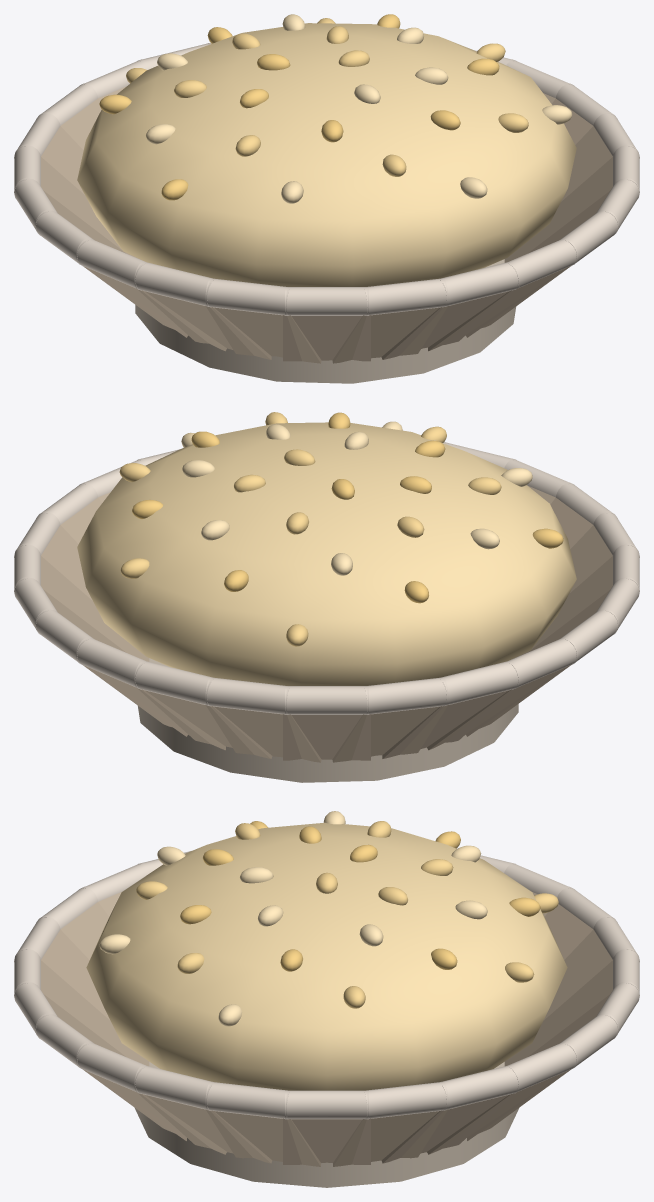
File: CMU3DFoodRicePuddingCloud.glb
3 views of the same model, one above another, from view 1: azimuth 30°, elevation 25°; view 2: azimuth 150°, elevation 25°; view 3: azimuth 270°, elevation 25° (orthographic).
Visible parts, largest first — view 1: rounded rice pudding mound, closed ceramic basin floor, flared hollow ceramic wall 17, flared hollow ceramic wall 16, flared hollow ceramic wall 18, rolled ceramic rim 17, rolled ceramic rim 16, rolled ceramic rim 18, flared hollow ceramic wall 19, flared hollow ceramic wall 15, flared hollow ceramic wall 23, rolled ceramic rim 15 (+24 smaller); view 2: rounded rice pudding mound, closed ceramic basin floor, flared hollow ceramic wall 09, flared hollow ceramic wall 08, flared hollow ceramic wall 10, rolled ceramic rim 09, rolled ceramic rim 08, rolled ceramic rim 10, flared hollow ceramic wall 07, flared hollow ceramic wall 11, flared hollow ceramic wall 03, rolled ceramic rim 07 (+24 smaller); view 3: rounded rice pudding mound, closed ceramic basin floor, flared hollow ceramic wall 01, flared hollow ceramic wall 02, flared hollow ceramic wall 24, rolled ceramic rim 01, flared hollow ceramic wall 07, flared hollow ceramic wall 19, rolled ceramic rim 02, rolled ceramic rim 24, flared hollow ceramic wall 03, flared hollow ceramic wall 23 (+24 smaller).
Boxes of the visible parts, x1,y1,x2,y2 form: rounded rice pudding mound: [77, 23, 576, 286]; closed ceramic basin floor: [135, 259, 516, 383]; flared hollow ceramic wall 17: [283, 315, 370, 361]; flared hollow ceramic wall 16: [206, 306, 321, 363]; flared hollow ceramic wall 18: [332, 306, 447, 363]; rolled ceramic rim 17: [285, 287, 368, 315]; rolled ceramic rim 16: [205, 278, 289, 315]; rolled ceramic rim 18: [364, 278, 448, 315]; flared hollow ceramic wall 19: [381, 289, 516, 359]; flared hollow ceramic wall 15: [137, 289, 271, 359]; flared hollow ceramic wall 23: [504, 157, 612, 262]; rolled ceramic rim 15: [134, 262, 213, 307]; rounded rice pudding mound: [77, 422, 576, 685]; closed ceramic basin floor: [138, 658, 518, 782]; flared hollow ceramic wall 09: [283, 714, 370, 760]; flared hollow ceramic wall 08: [206, 705, 321, 762]; flared hollow ceramic wall 10: [332, 705, 447, 762]; rolled ceramic rim 09: [285, 686, 368, 714]; rolled ceramic rim 08: [205, 677, 289, 714]; rolled ceramic rim 10: [364, 677, 448, 714]; flared hollow ceramic wall 07: [137, 688, 272, 758]; flared hollow ceramic wall 11: [382, 688, 516, 758]; flared hollow ceramic wall 03: [41, 556, 149, 661]; rolled ceramic rim 07: [134, 661, 213, 706]; rounded rice pudding mound: [86, 822, 567, 1090]; closed ceramic basin floor: [135, 1062, 518, 1187]; flared hollow ceramic wall 01: [283, 1118, 370, 1164]; flared hollow ceramic wall 02: [333, 1109, 448, 1166]; flared hollow ceramic wall 24: [205, 1109, 320, 1166]; rolled ceramic rim 01: [285, 1090, 368, 1119]; flared hollow ceramic wall 07: [504, 960, 612, 1066]; flared hollow ceramic wall 19: [41, 960, 149, 1066]; rolled ceramic rim 02: [364, 1082, 448, 1119]; rolled ceramic rim 24: [205, 1082, 289, 1119]; flared hollow ceramic wall 03: [381, 1092, 516, 1163]; flared hollow ceramic wall 23: [137, 1092, 272, 1163].
Bounding box in the file's own units: 0.7324 × 0.3335 × 0.7324.
